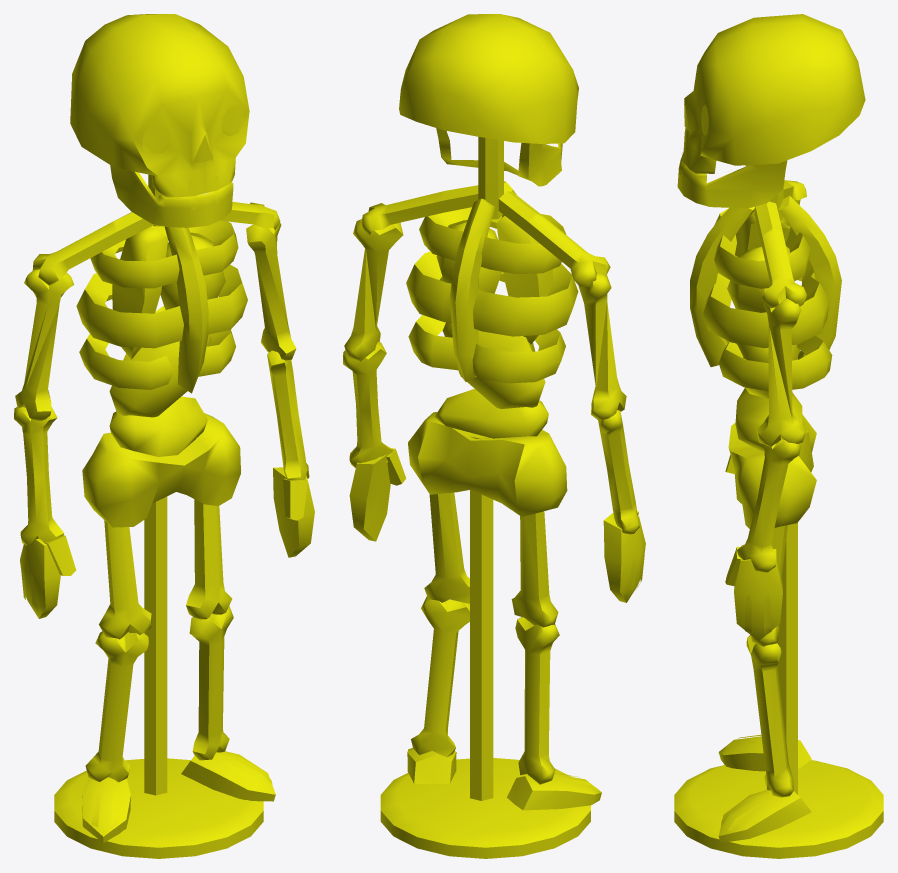
3 views of the same model, side by side, from view 1: azimuth 30°, elevation 25°; view 2: azimuth 150°, elevation 25°; view 3: azimuth 270°, elevation 25° (orthographic).
Parts seen in each view (by area): view 1: medic_skeleton; view 2: medic_skeleton; view 3: medic_skeleton.
Boxes of the visible parts, x1=… form: medic_skeleton: x1=14, y1=14, x2=314, y2=858; medic_skeleton: x1=343, y1=14, x2=645, y2=858; medic_skeleton: x1=674, y1=14, x2=883, y2=858.
Bounding box in the file's own units: 0.00714 × 0.0188 × 0.0045.
Materials: 1 (1 with a texture image).
